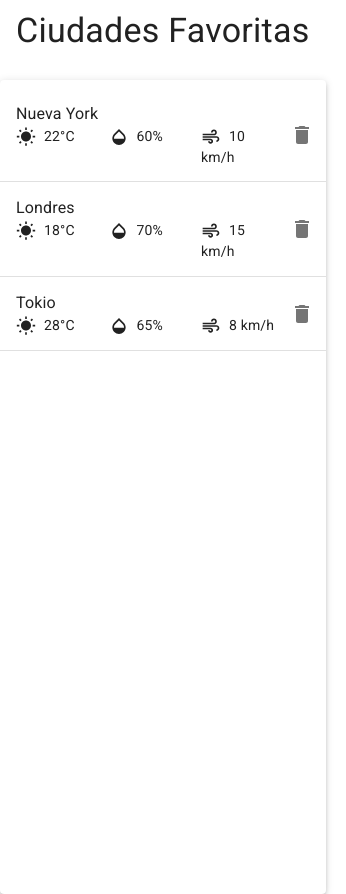
Test: SavedLocations Component › removes a location from favorites when delete button is clicked
Check: the link "Londres" is shown, box [16,198,75,217]
Simular clic en el botón de eliminar para 'Londres'
Click the button named "delete" in the row of "Londres".
click(302, 229)  # box [282,209,322,249]
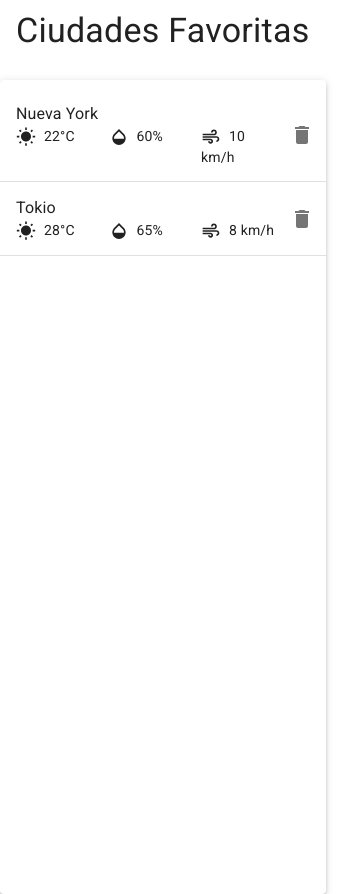
Check: the link "Londres" is gone
